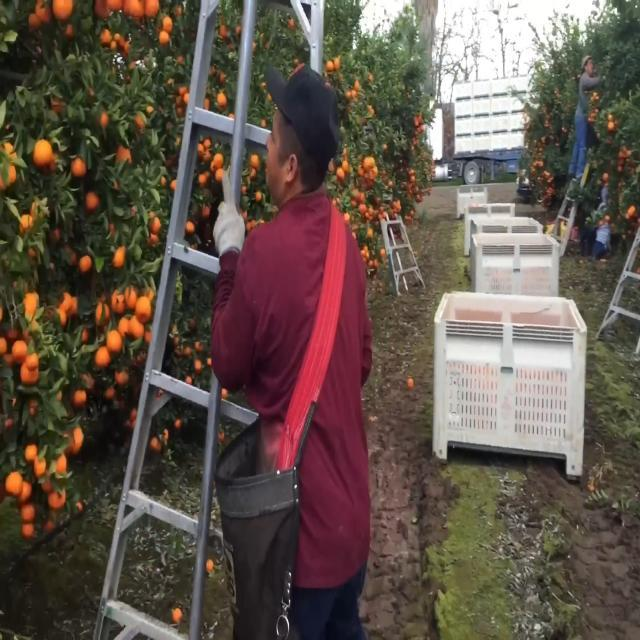Jeruk Sudah Matang: (32, 138, 53, 168), (50, 0, 76, 21), (134, 296, 153, 324), (4, 469, 23, 496), (105, 331, 124, 356), (10, 338, 28, 364), (84, 190, 101, 214), (94, 344, 110, 369), (94, 300, 110, 325), (52, 451, 68, 476), (70, 156, 88, 178), (112, 289, 125, 315), (70, 388, 86, 407), (24, 442, 38, 463), (148, 214, 162, 234), (78, 254, 93, 272), (98, 27, 112, 46), (215, 90, 228, 110), (26, 353, 40, 371), (160, 16, 173, 34), (158, 29, 170, 46), (186, 218, 195, 238), (214, 153, 224, 169), (198, 173, 206, 188)
